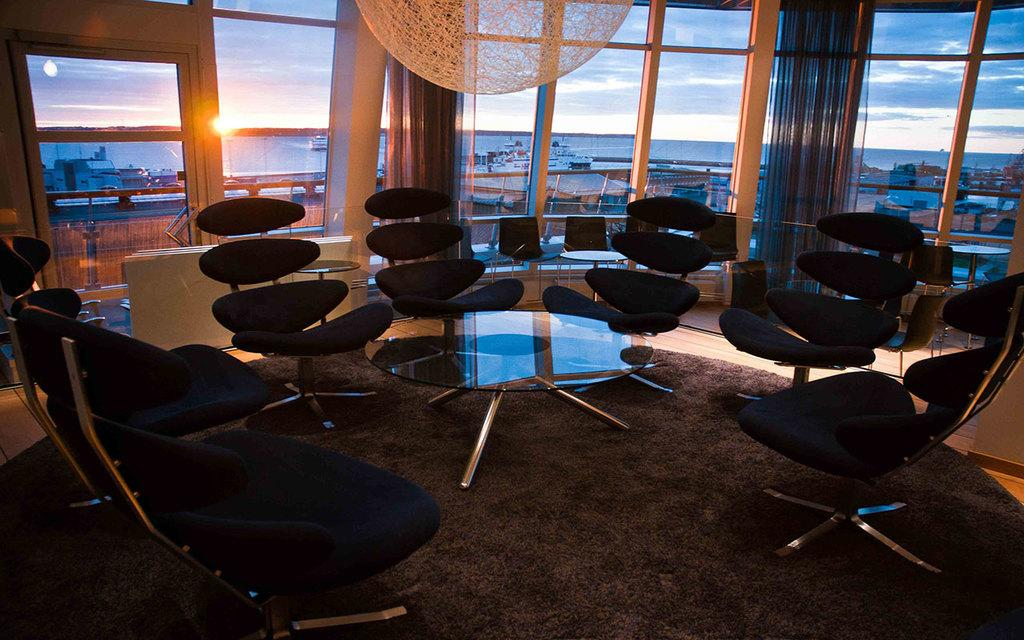Chair: (6, 300, 446, 639), (0, 230, 310, 514), (750, 335, 995, 575), (197, 200, 403, 435), (714, 210, 934, 413), (546, 192, 718, 402), (362, 182, 526, 353), (494, 216, 568, 308), (556, 220, 623, 288), (907, 242, 962, 322), (702, 213, 741, 292)
